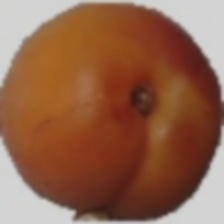apricot: (38, 23, 199, 195)
